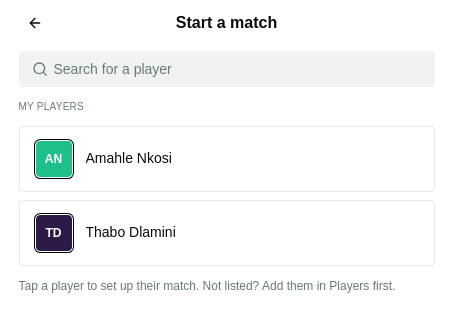
Test case: search narrows the roster to matching names
This screenshot has width=455, height=310.
Expected: the text "Amahle Nkosi" is shown, x1=86 y1=149 x2=172 y2=169
Type "dlam" into the field labelled "Search for a player".
click(240, 69); type("dlam")  # box x1=48 y1=51 x2=434 y2=87
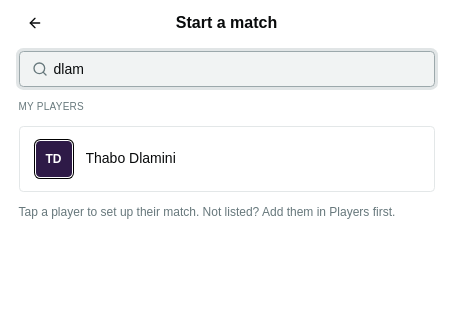
Expected: the text "Thabo Dlamini" is shown, x1=86 y1=149 x2=176 y2=169
Expected: the link "Amahle Nkosi" is gone
